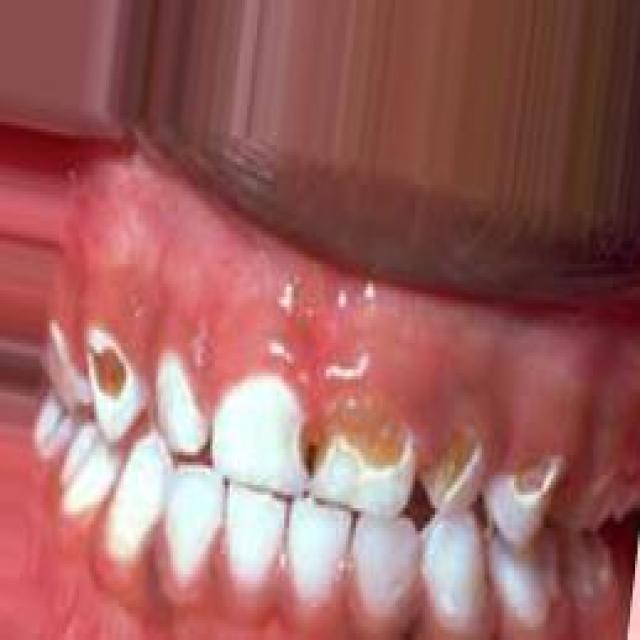caries: (323, 385, 415, 518), (71, 327, 137, 419), (422, 423, 482, 517), (504, 444, 562, 520), (290, 405, 332, 482)
